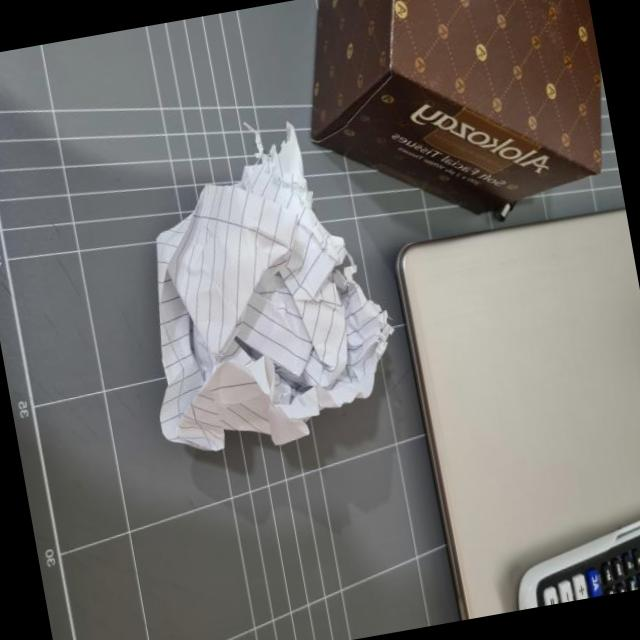cardboard paper: (399, 211, 640, 620), (158, 127, 393, 451), (313, 0, 602, 213)
